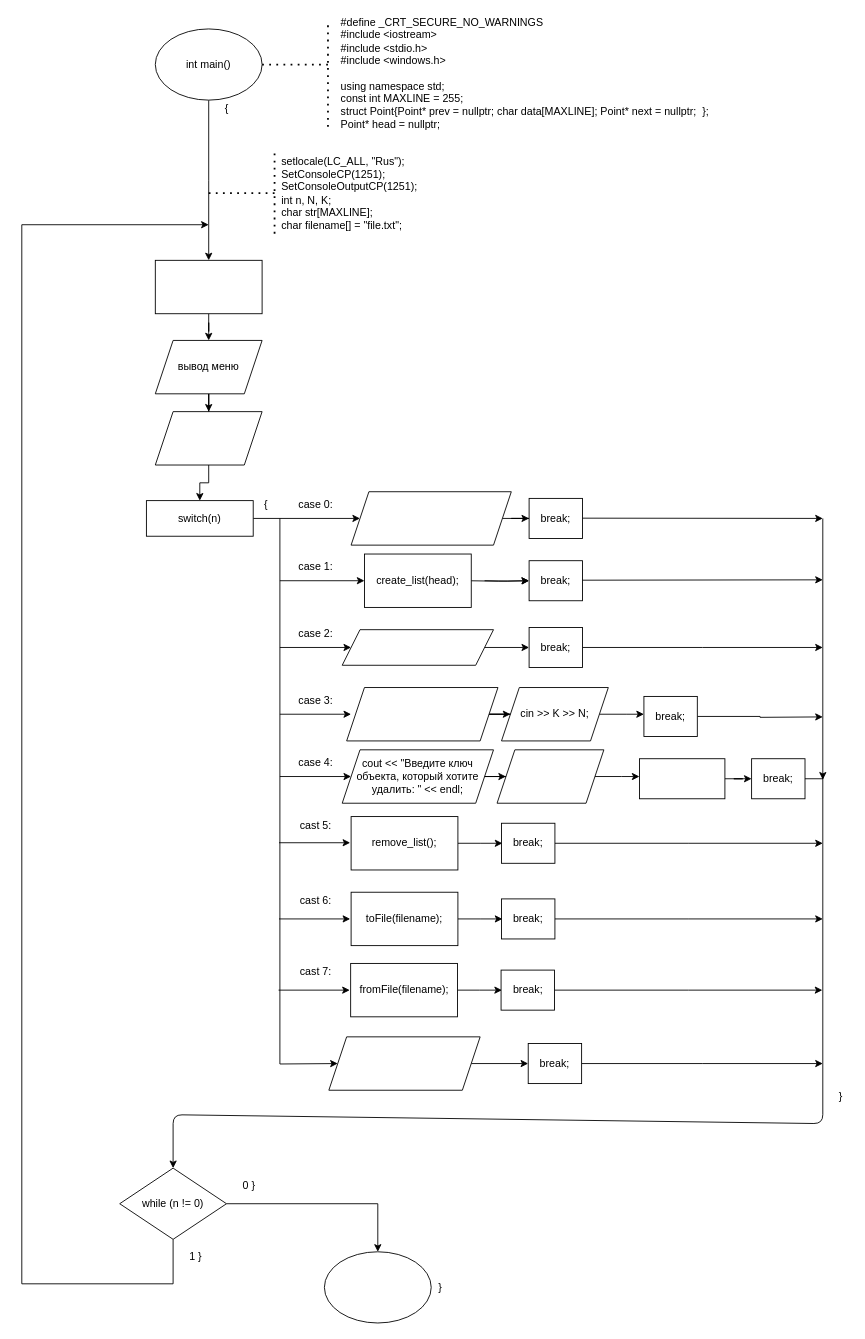
This 865x1339 diagram has some shape labels left out. Here are the shapes that lost their labels. From the top down, the centre of each, then its label:
the point at 208,286: system("pause"); system("cls");
the point at 208,438: cin >> n;
the point at 430,518: cout << "Выход из меню !" << endl;
the point at 417,647: show_list();
the point at 422,714: cout << "Введите кол-во объетов K и позицию N: " << endl;
the point at 550,776: cin.get(); cin.getline(str, MAXLINE);
the point at 682,778: remove_obj(str);
the point at 404,1063: cout << "Такой команды нет!" << endl;
the point at 377,1287: return 0;
